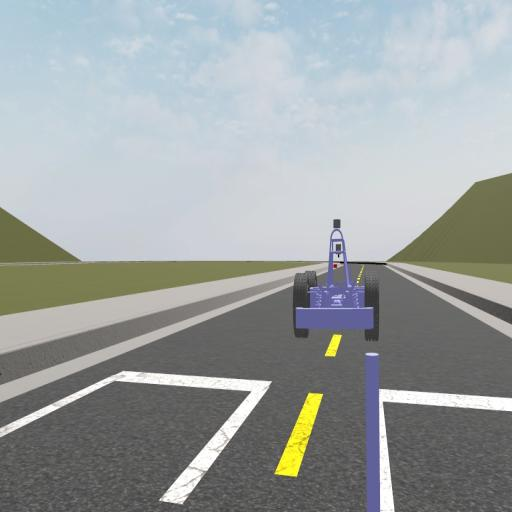ERP-42: (293, 218, 378, 340)
